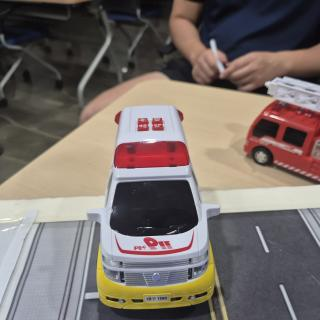Ambulance: (87, 106, 220, 309)
